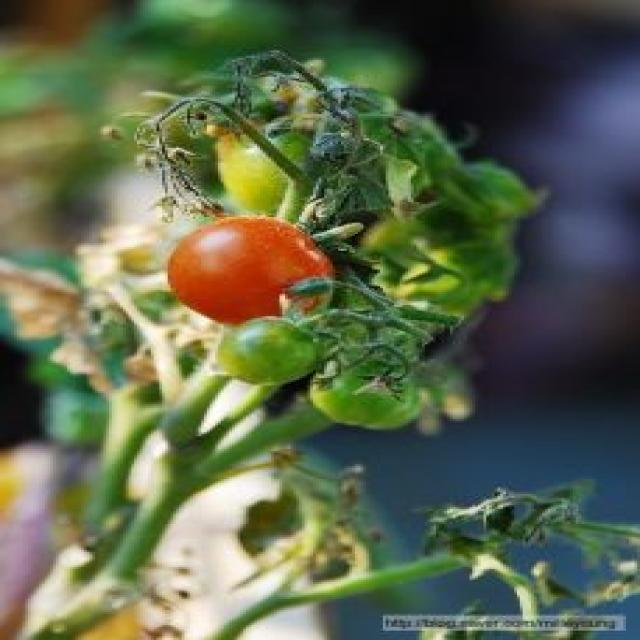level 1: (297, 352, 459, 449), (196, 307, 329, 393)
level 2: (190, 115, 356, 225)
level 6: (148, 201, 350, 327)
